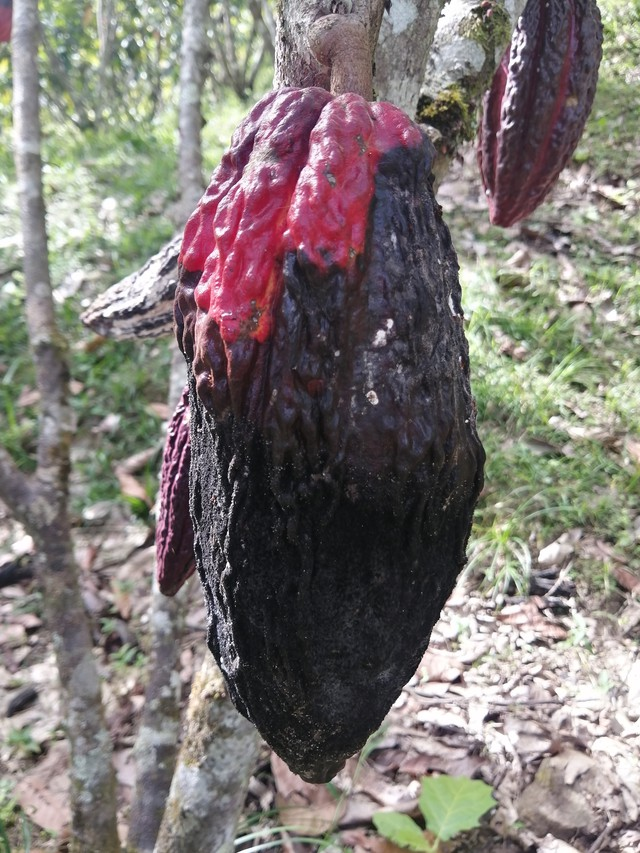moniliophthora roreri: (161, 66, 497, 799)
